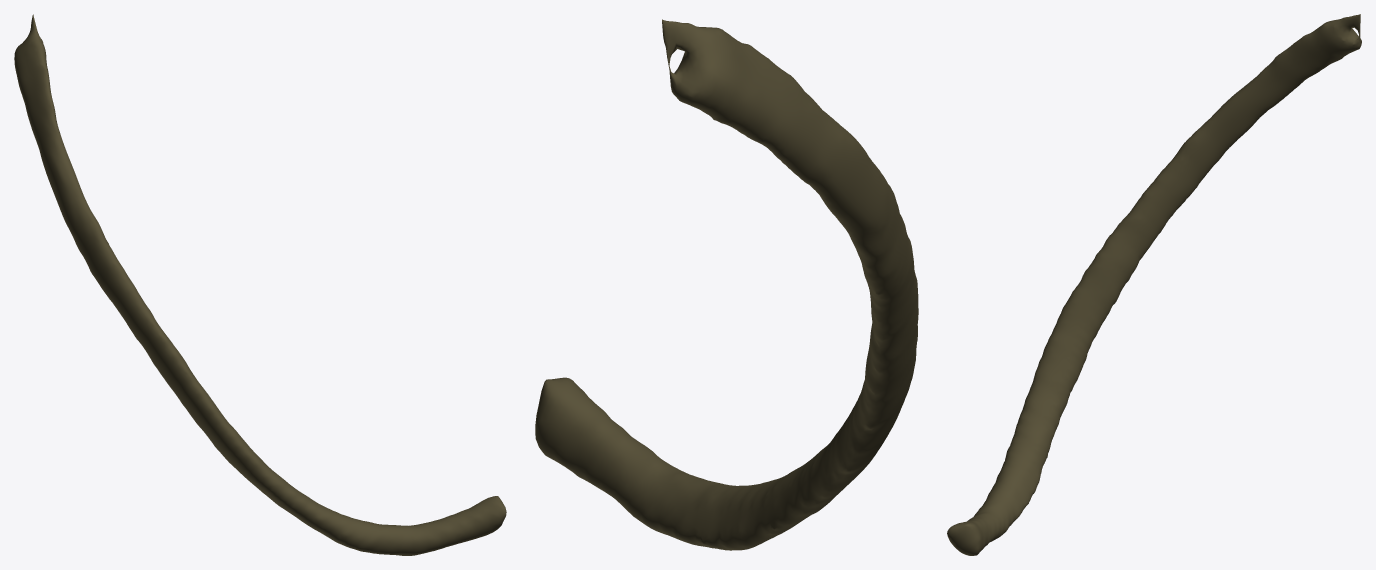
File: segmentations_rib_left_8.obj
3 views of the same model, side by side, from view 1: azimuth 30°, elevation 25°; view 2: azimuth 150°, elevation 25°; view 3: azimuth 270°, elevation 25° (orthographic). The views are drawn at different scales.
Parts seen in each view (by area): view 1: grp1; view 2: grp1; view 3: grp1.
Boxes of the visible parts, x1,y1,x2,y2 form: grp1: (14, 14, 506, 555); grp1: (535, 19, 918, 550); grp1: (947, 14, 1361, 555).
Size of the model in its own units: 73.49 by 103 by 89.09.
